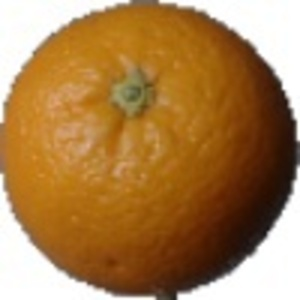laranja: (3, 3, 295, 296)
